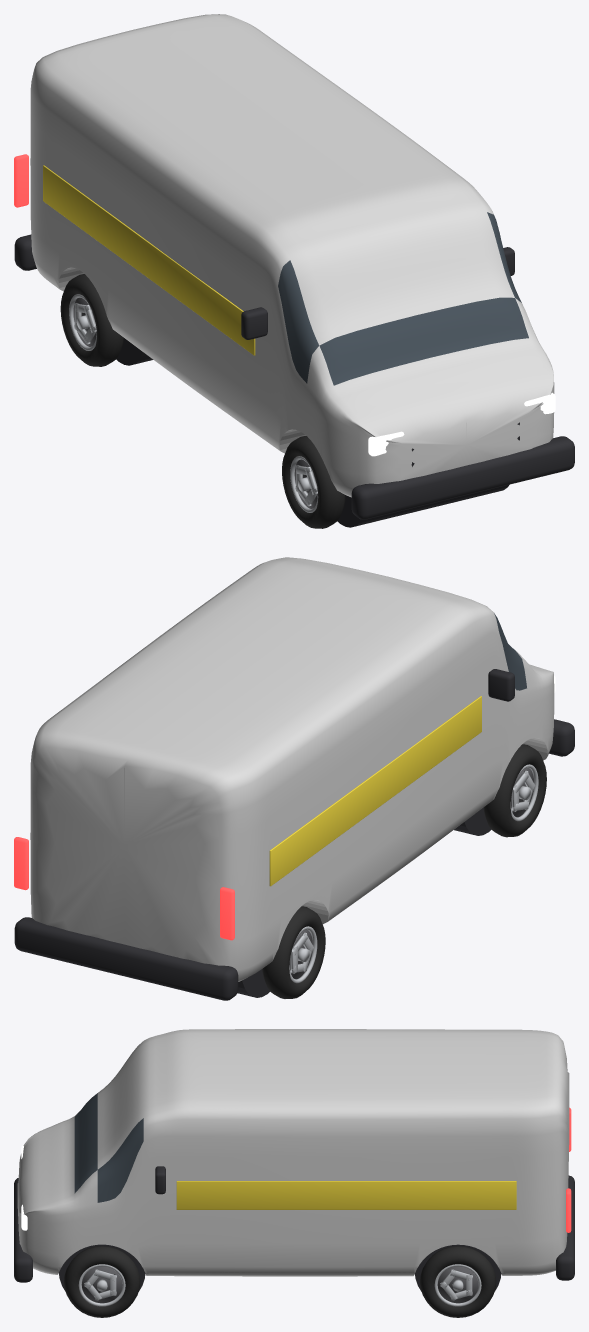
The model's file is van.glb.
3 views of the same model, one above another, from view 1: azimuth 30°, elevation 25°; view 2: azimuth 150°, elevation 25°; view 3: azimuth 270°, elevation 25° (orthographic). The views are drawn at different scales.
Visible parts, largest first — view 1: body, stripe, bumper_f, Torus, Torus.002, Cylinder, mirror, tail; view 2: body, stripe, bumper_r, Torus.002, Torus, mirror, tail, tail.001, bumper_f, Cylinder.001, Cylinder; view 3: body, stripe.001, Torus.004, Torus.006, bumper_r, bumper_f, Cylinder.008, Cylinder.006, Cylinder, Cylinder.001, Torus.005, Torus.007.
Part boxes in pixels (x1=…): body: x1=30, y1=14, x2=554, y2=497; stripe: x1=43, y1=165, x2=255, y2=355; bumper_f: x1=351, y1=436, x2=574, y2=519; Torus: x1=282, y1=436, x2=345, y2=528; Torus.002: x1=60, y1=274, x2=123, y2=366; Cylinder: x1=337, y1=484, x2=509, y2=527; mirror: x1=241, y1=307, x2=267, y2=339; tail: x1=14, y1=154, x2=28, y2=207; body: x1=30, y1=557, x2=554, y2=981; stripe: x1=269, y1=696, x2=481, y2=886; bumper_r: x1=14, y1=917, x2=238, y2=1000; Torus.002: x1=262, y1=906, x2=325, y2=998; Torus: x1=483, y1=744, x2=546, y2=837; mirror: x1=488, y1=669, x2=514, y2=701; tail: x1=220, y1=887, x2=234, y2=940; tail.001: x1=14, y1=837, x2=28, y2=890; bumper_f: x1=549, y1=719, x2=574, y2=756; Cylinder.001: x1=237, y1=969, x2=269, y2=997; Cylinder: x1=454, y1=807, x2=491, y2=835; body: x1=17, y1=1029, x2=569, y2=1276; stripe.001: x1=176, y1=1181, x2=516, y2=1209; Torus.004: x1=64, y1=1246, x2=140, y2=1317; Torus.006: x1=420, y1=1246, x2=496, y2=1317; bumper_r: x1=556, y1=1175, x2=574, y2=1280; bumper_f: x1=14, y1=1178, x2=32, y2=1282; Cylinder.008: x1=437, y1=1266, x2=478, y2=1303; Cylinder.006: x1=81, y1=1266, x2=122, y2=1303; Cylinder: x1=59, y1=1244, x2=145, y2=1291; Cylinder.001: x1=415, y1=1244, x2=501, y2=1291; Torus.005: x1=78, y1=1264, x2=125, y2=1306; Torus.007: x1=434, y1=1264, x2=481, y2=1306.
Bounding box in the file's own units: 2.36 × 2.26 × 5.28.
